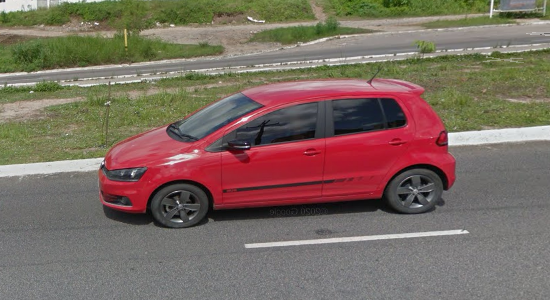car: (93, 63, 465, 233)
